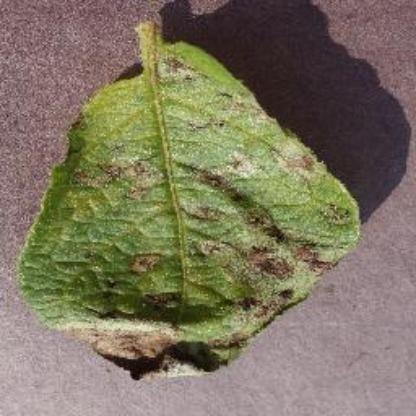Late-Blight: (13, 11, 367, 382)
